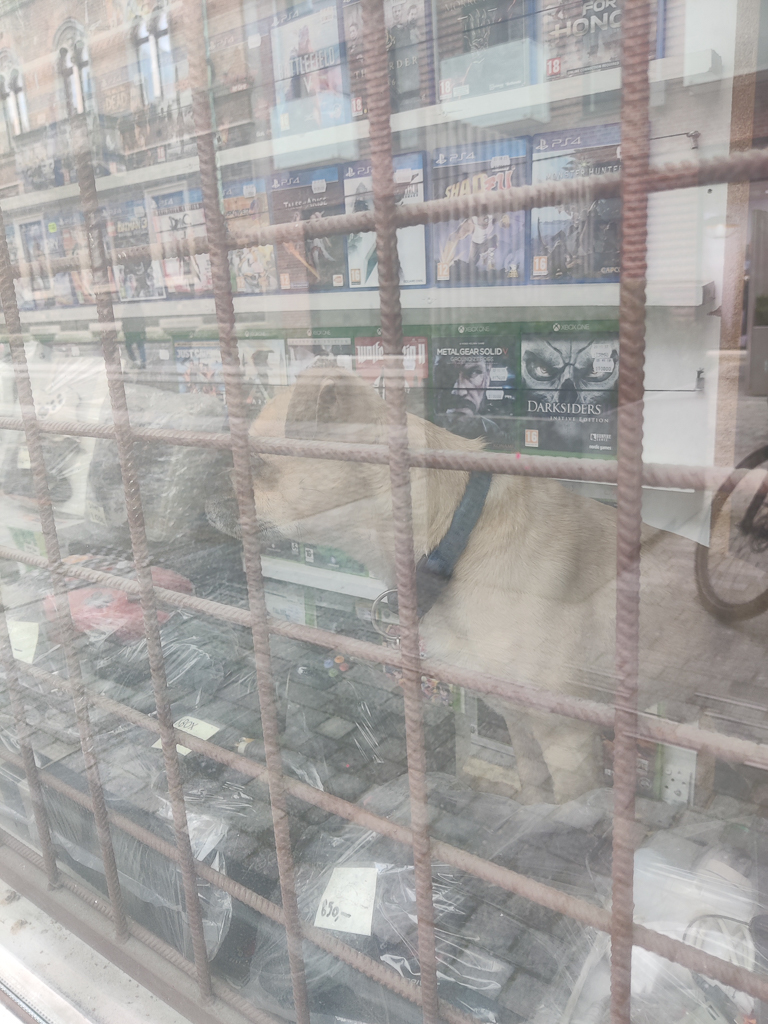Dog: (175, 357, 768, 811)
